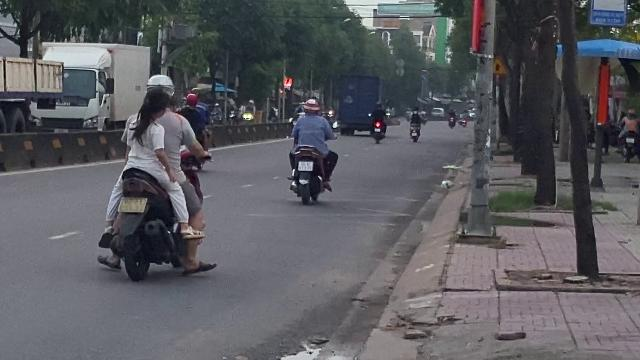helmet: (144, 73, 174, 93), (302, 99, 320, 114)
licenseplate: (119, 197, 145, 211), (298, 162, 312, 170)
motorcyclist: (97, 70, 213, 282), (285, 97, 337, 203)
nohelmet: (140, 87, 172, 118)
